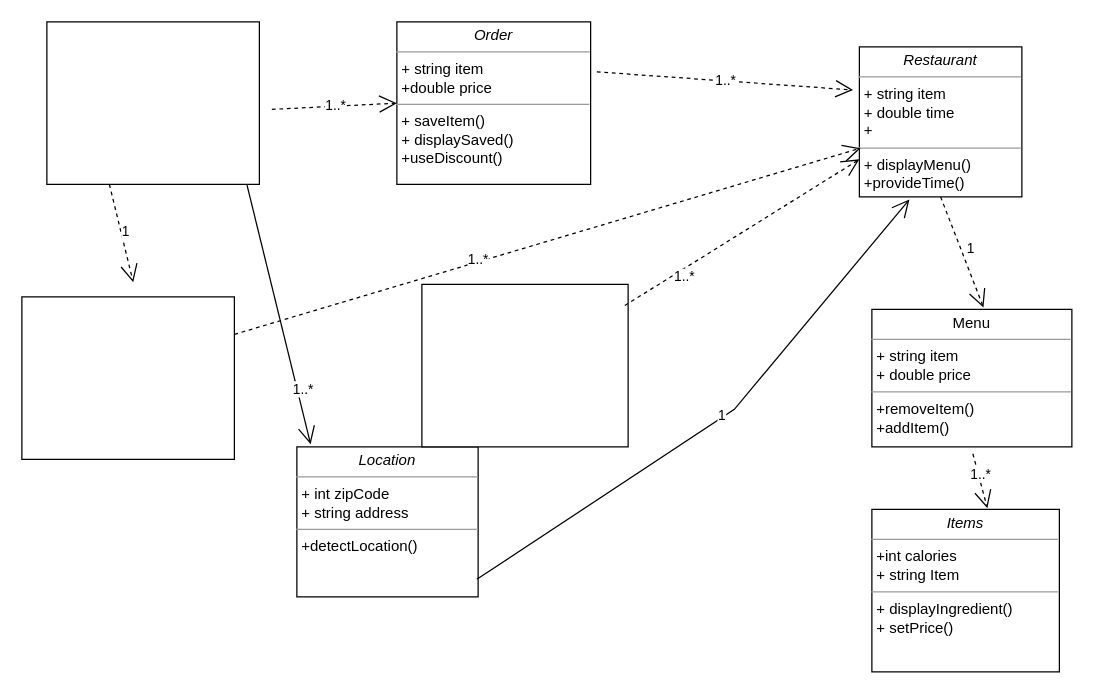
The diagram is 1094 pixels wide and 694 high, and some of its shapes have lost their labels. Each missing label, with the centre of its shape:
Payment + string cardNumber + int cvvNumber + choosePaymentType() +pay(): (x=127, y=377)
User + string userName + string password + signUp() +orderFood() +logIn(): (x=152, y=102)
User(Delivery Driver) + string info + string address +getDeliveryInfo() +: (x=524, y=365)
